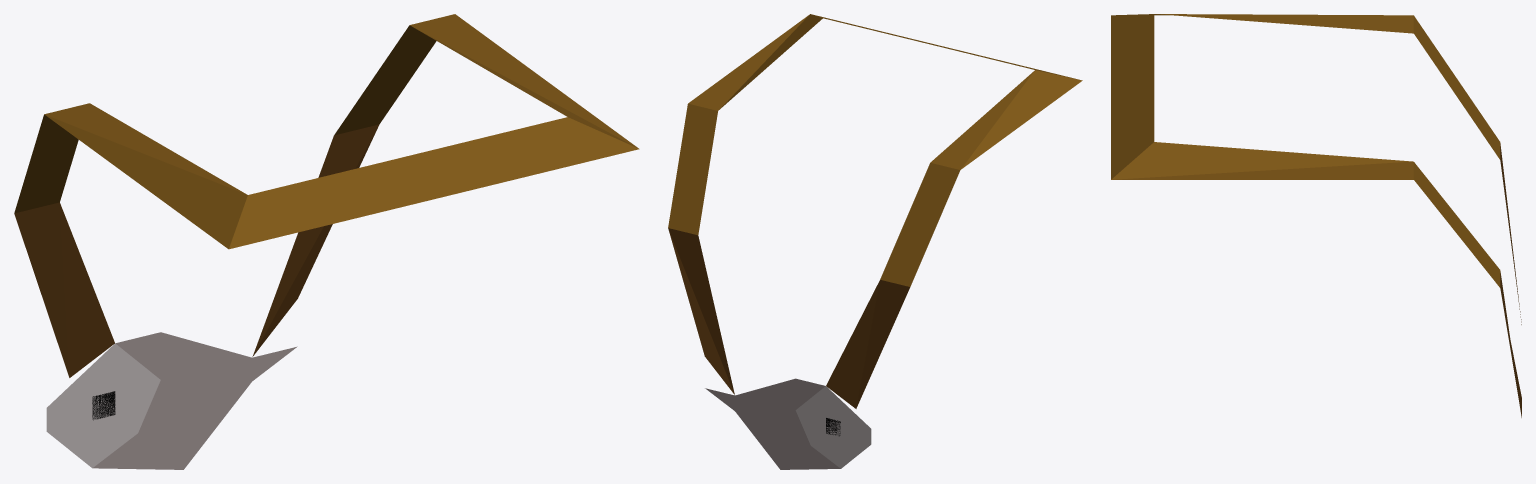
The model's file is itm_model0m_cat_training_medal.obj.
3 renders of one model, left to right at view 1: azimuth 30°, elevation 25°; view 2: azimuth 150°, elevation 25°; view 3: azimuth 270°, elevation 25°, orthographic. The views are drawn at different scales.
Size of the model in its own units: 0.1406 by 0.1562 by 0.1484.
